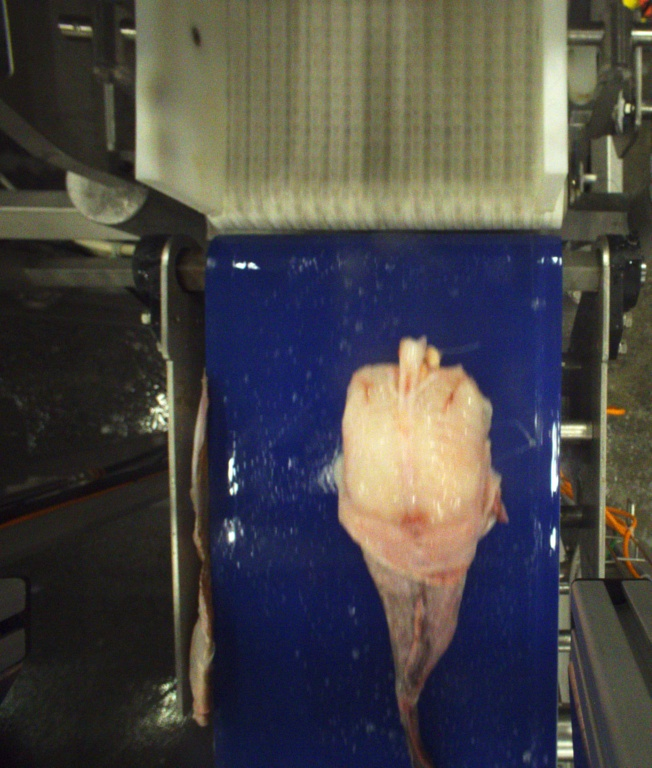ANF: (338, 336, 506, 768)
